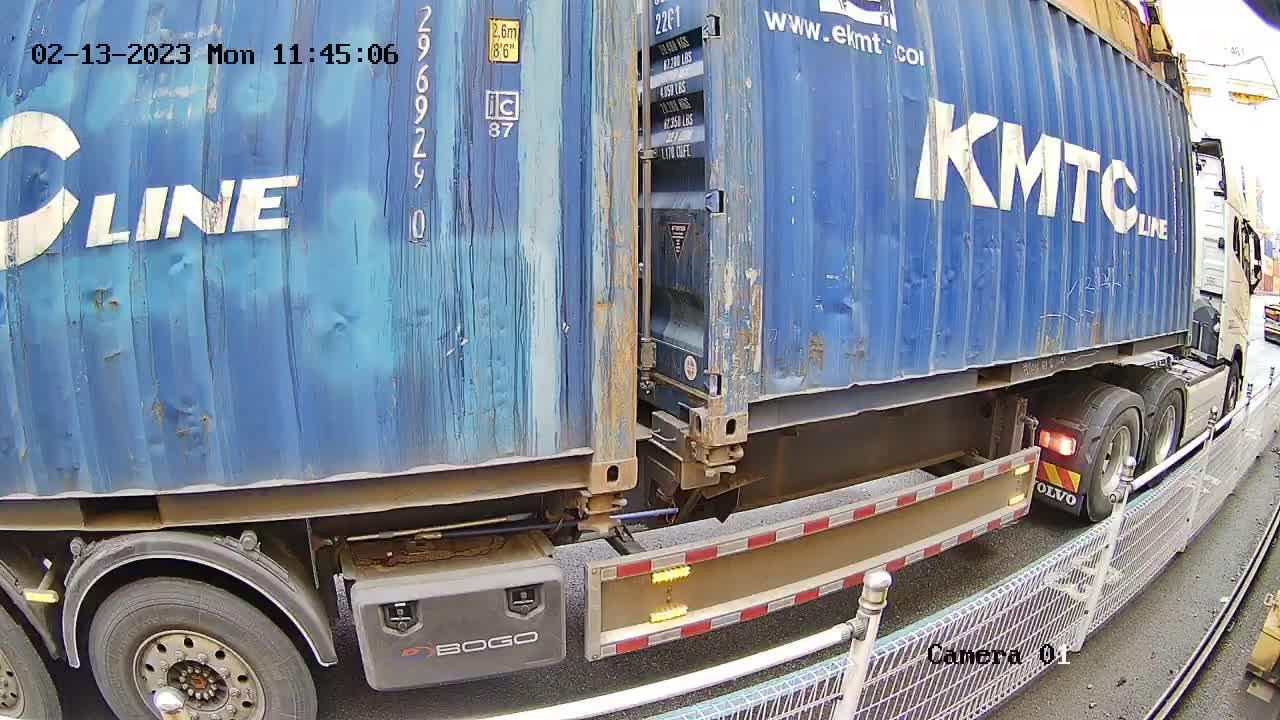Cone: (577, 493, 627, 536), (689, 445, 746, 478)
Hole_L: (713, 378, 777, 447)
Hole_R: (557, 428, 638, 499), (670, 374, 710, 444)
Tire: (91, 580, 318, 715), (1088, 408, 1141, 518), (1146, 391, 1184, 484)
